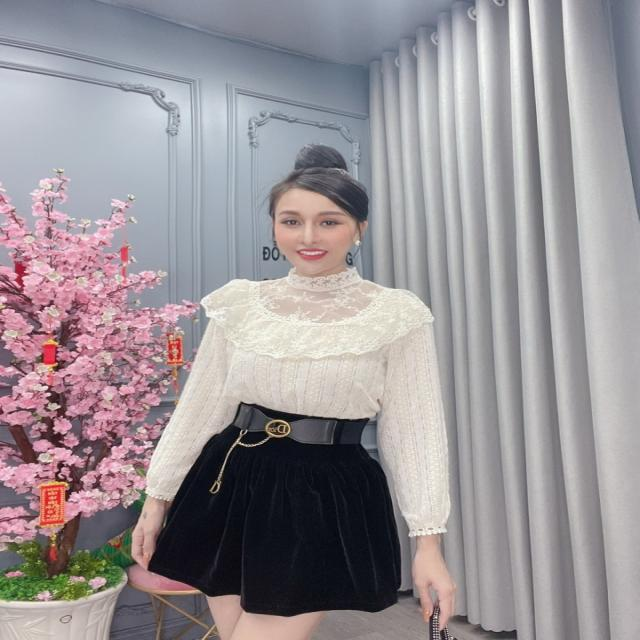clothes: (146, 271, 448, 615)
